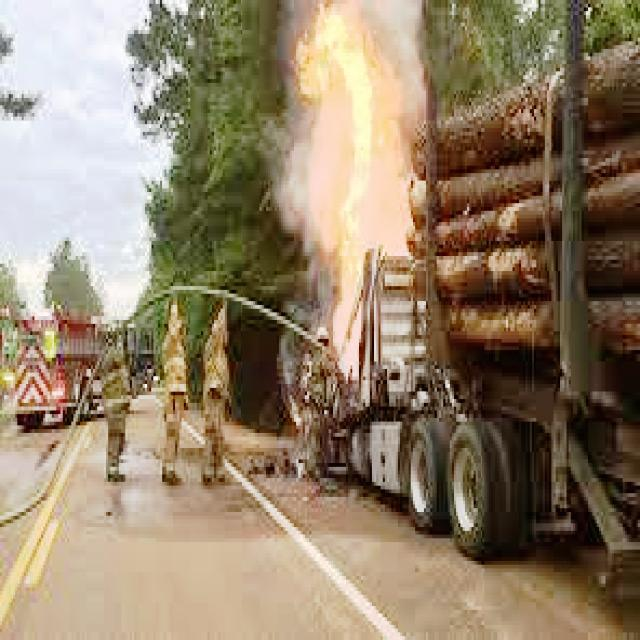api: (282, 13, 442, 393)
